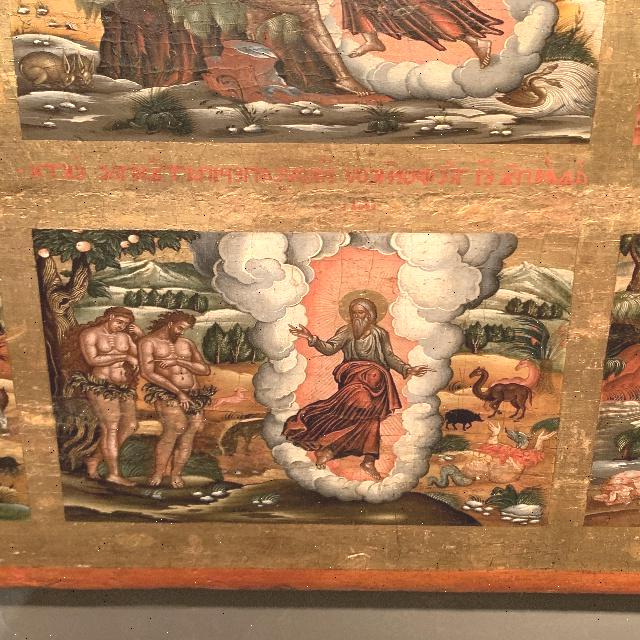adam: (142, 313, 215, 493)
eve: (65, 307, 138, 479)
father: (288, 274, 415, 478)
